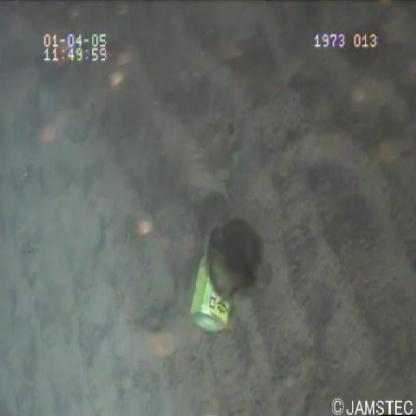Rác: (187, 254, 234, 342)
